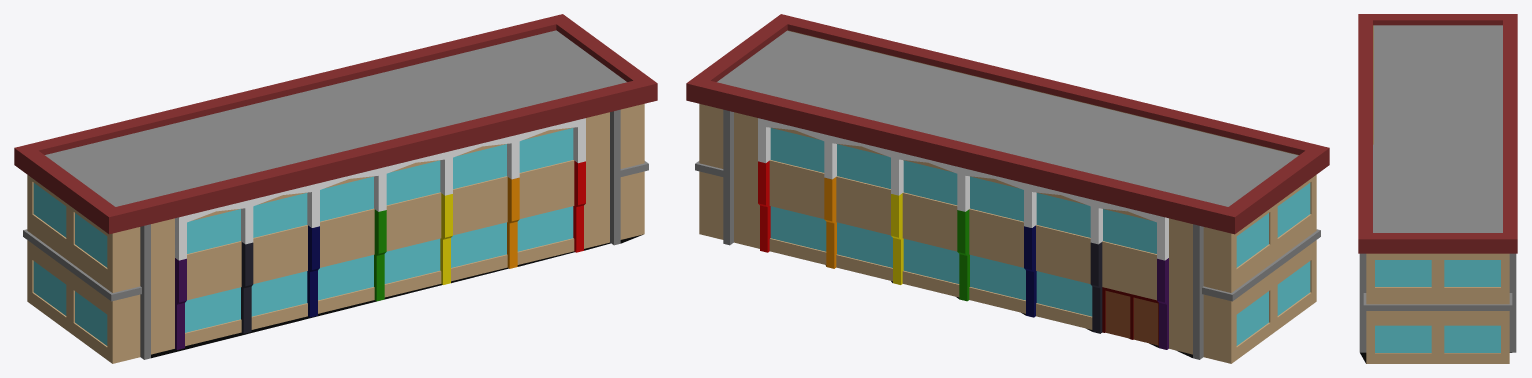
The model's file is School.fbx.
3 renders of one model, left to right at view 1: azimuth 30°, elevation 25°; view 2: azimuth 150°, elevation 25°; view 3: azimuth 270°, elevation 25°, orthographic. The views are drawn at different scales.
Visible parts, largest first — view 1: Model; view 2: Model; view 3: Model.
Part boxes in pixels (x1,y1,x2,y2): Model: [14, 14, 657, 363]; Model: [686, 14, 1329, 363]; Model: [1358, 14, 1517, 363].
Size of the model in its own units: 688 by 182 by 206.
